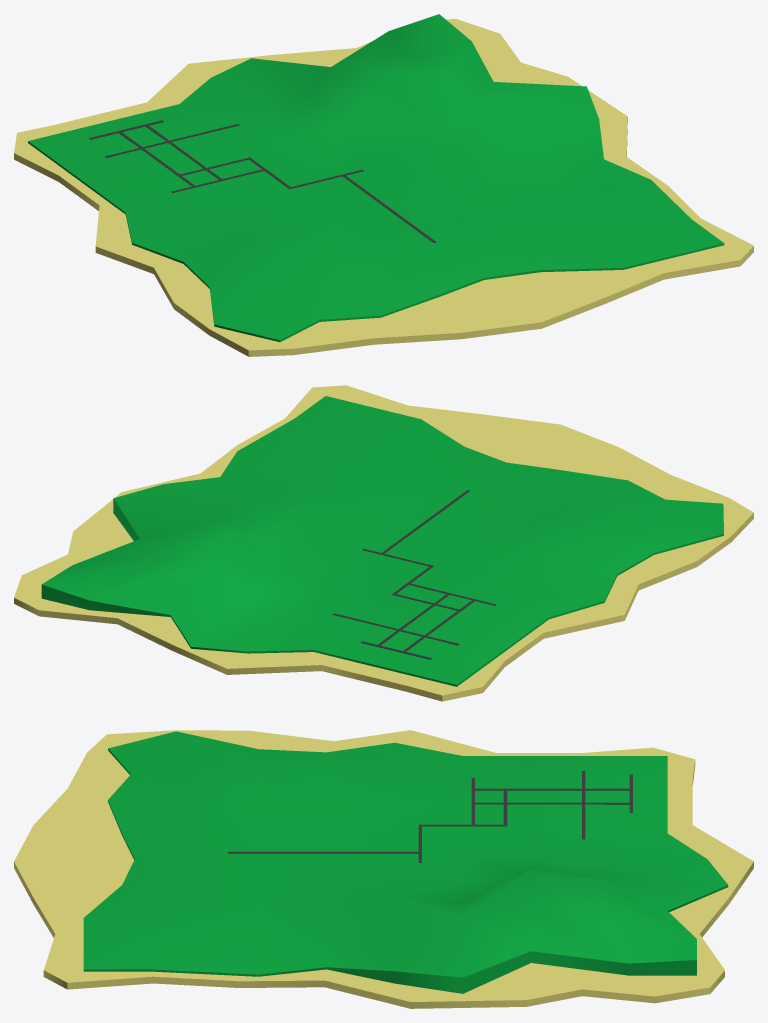
File: GAME MAP.fbx
3 views of the same model, one above another, from view 1: azimuth 30°, elevation 25°; view 2: azimuth 150°, elevation 25°; view 3: azimuth 270°, elevation 25° (orthographic). The views are drawn at different scales.
Visible parts, largest first — view 1: pCube1, pCube15, pCube14; view 2: pCube1, pCube15, pCube14; view 3: pCube1, pCube15, pCube14.
Part boxes in pixels (left/top/right/bottom): pCube1: left=28, top=14, right=724, bottom=342; pCube15: left=14, top=19, right=753, bottom=356; pCube14: left=89, top=120, right=436, bottom=242; pCube1: left=41, top=396, right=723, bottom=686; pCube15: left=14, top=385, right=753, bottom=701; pCube14: left=332, top=490, right=496, bottom=659; pCube1: left=83, top=731, right=728, bottom=993; pCube15: left=14, top=730, right=753, bottom=1008; pCube14: left=227, top=771, right=632, bottom=862.
Size of what is drawn, in the model's own units: 1032 by 89.19 by 1186.
